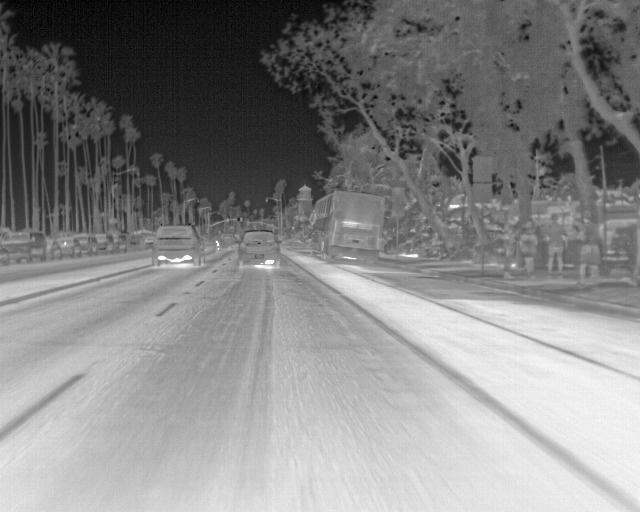bicycle: (149, 222, 202, 266), (237, 227, 281, 270), (2, 229, 44, 261), (69, 232, 96, 256), (54, 237, 78, 257), (94, 230, 113, 252)
empty: (572, 208, 603, 289), (540, 211, 567, 276), (518, 219, 542, 279)
